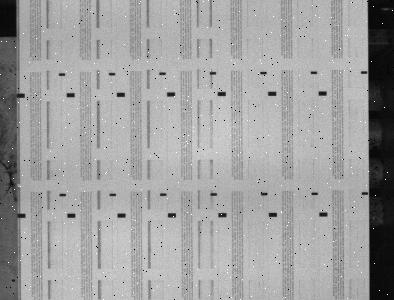backgroundclutter: (12, 279, 15, 282)
qblock: (116, 92, 125, 97), (167, 92, 176, 97), (268, 91, 277, 96), (17, 213, 26, 218), (117, 213, 126, 218), (269, 212, 278, 217), (67, 213, 76, 218), (319, 212, 328, 217), (319, 91, 327, 96), (17, 93, 25, 98), (66, 93, 75, 97), (168, 213, 177, 217), (218, 92, 226, 96), (219, 213, 227, 217)
smallqblock: (59, 193, 66, 197), (261, 192, 268, 196), (109, 72, 116, 76), (210, 71, 217, 75), (160, 193, 167, 196), (260, 71, 267, 74), (58, 73, 65, 76), (361, 71, 368, 74), (311, 71, 318, 74), (362, 192, 369, 195), (211, 193, 218, 196), (160, 72, 166, 75), (110, 193, 116, 196), (312, 192, 318, 195)
